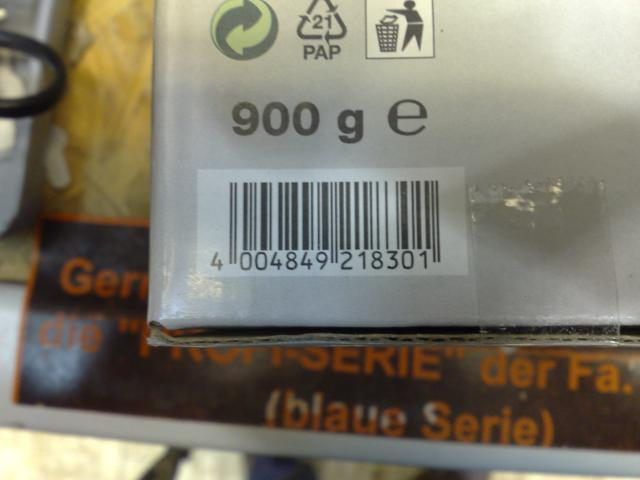Barcode: (207, 178, 446, 277)
